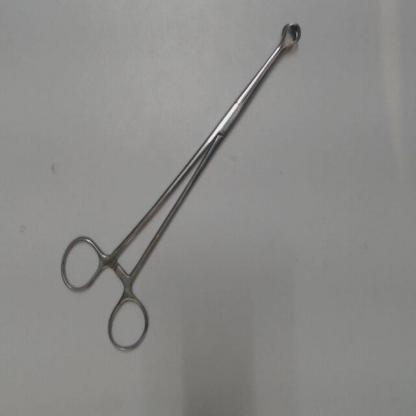8 Babcock Tissue Forceps: (53, 16, 305, 358)
